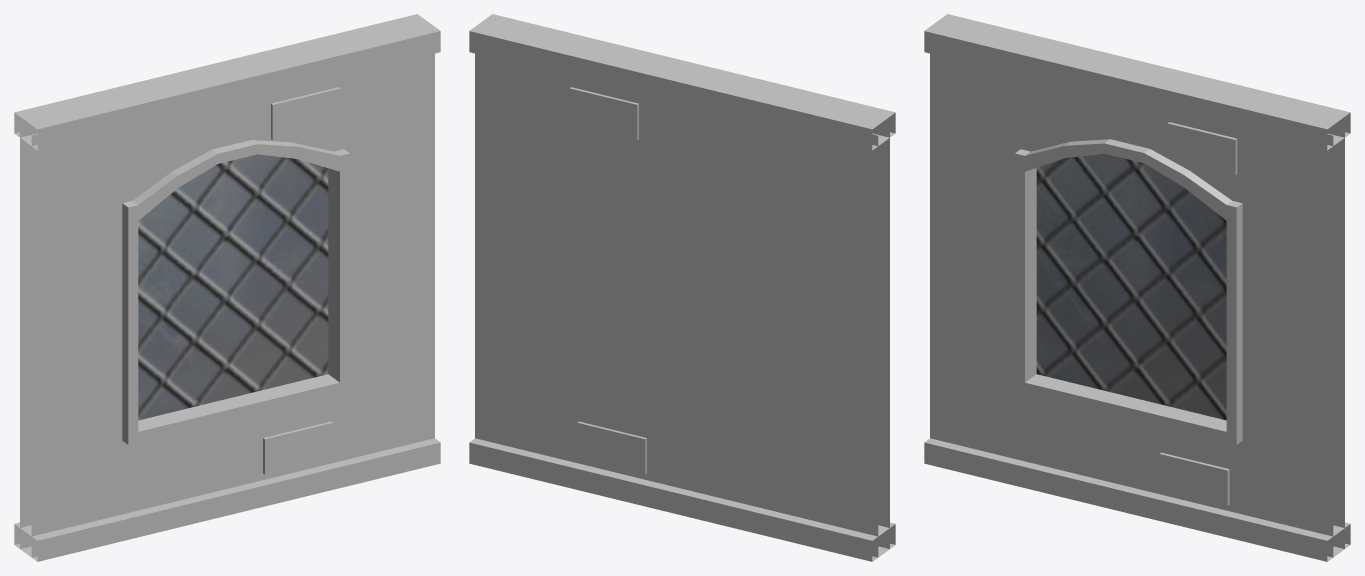
File: Wall_1_2.fbx
3 views of the same model, side by side, from view 1: azimuth 30°, elevation 25°; view 2: azimuth 150°, elevation 25°; view 3: azimuth 330°, elevation 25° (orthographic).
Visible parts, largest first — view 1: polySurface9912; view 2: polySurface9912; view 3: polySurface9912.
Boxes of the visible parts, left/top/right/bottom form: polySurface9912: left=14, top=14, right=440, bottom=561; polySurface9912: left=469, top=14, right=895, bottom=561; polySurface9912: left=924, top=14, right=1350, bottom=561.
Bounding box in the file's own units: 4 × 4.1 × 0.4.
